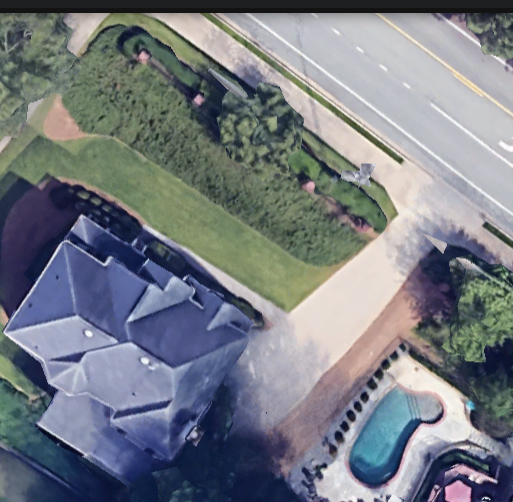driveway: (196, 185, 446, 449)
